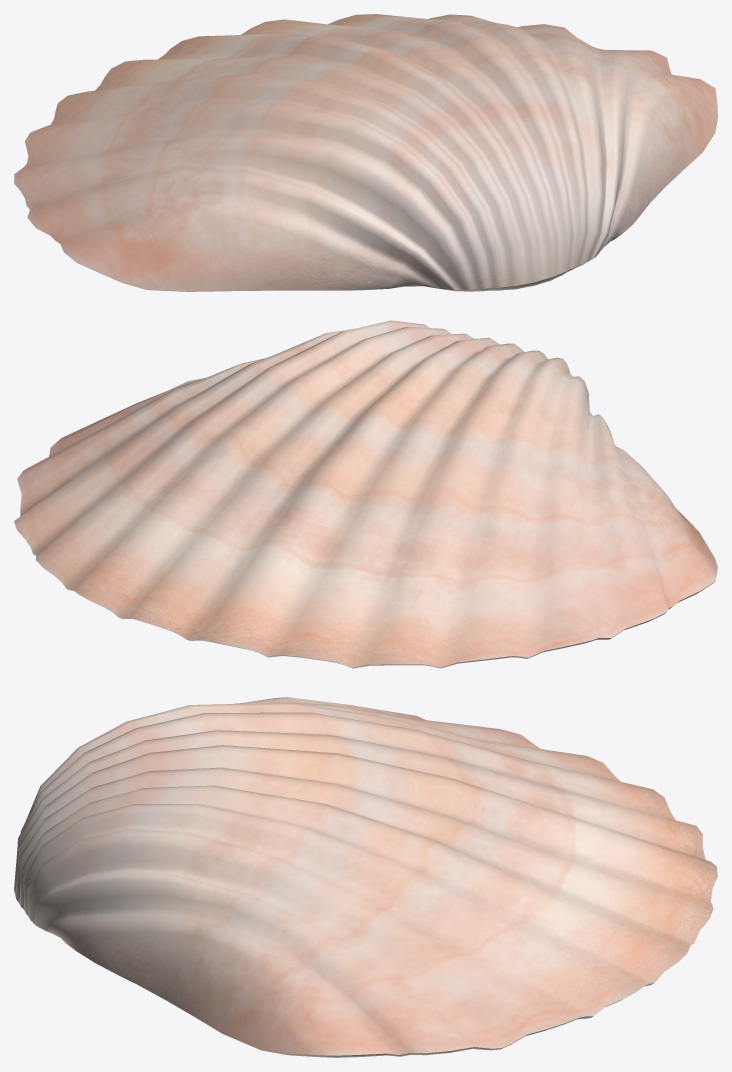
The model's file is sea_shell_game_asset.glb.
3 views of the same model, one above another, from view 1: azimuth 30°, elevation 25°; view 2: azimuth 150°, elevation 25°; view 3: azimuth 270°, elevation 25° (orthographic). The views are drawn at different scales.
Visible parts, largest first — view 1: Shell_Model_Low; view 2: Shell_Model_Low; view 3: Shell_Model_Low.
Part boxes in pixels (left/top/right/bottom): Shell_Model_Low: left=14, top=14, right=717, bottom=291; Shell_Model_Low: left=14, top=320, right=717, bottom=668; Shell_Model_Low: left=14, top=697, right=717, bottom=1057.
Size of the model in its own units: 0.894 by 0.1831 by 0.7722.
1 material, 1 textured.
